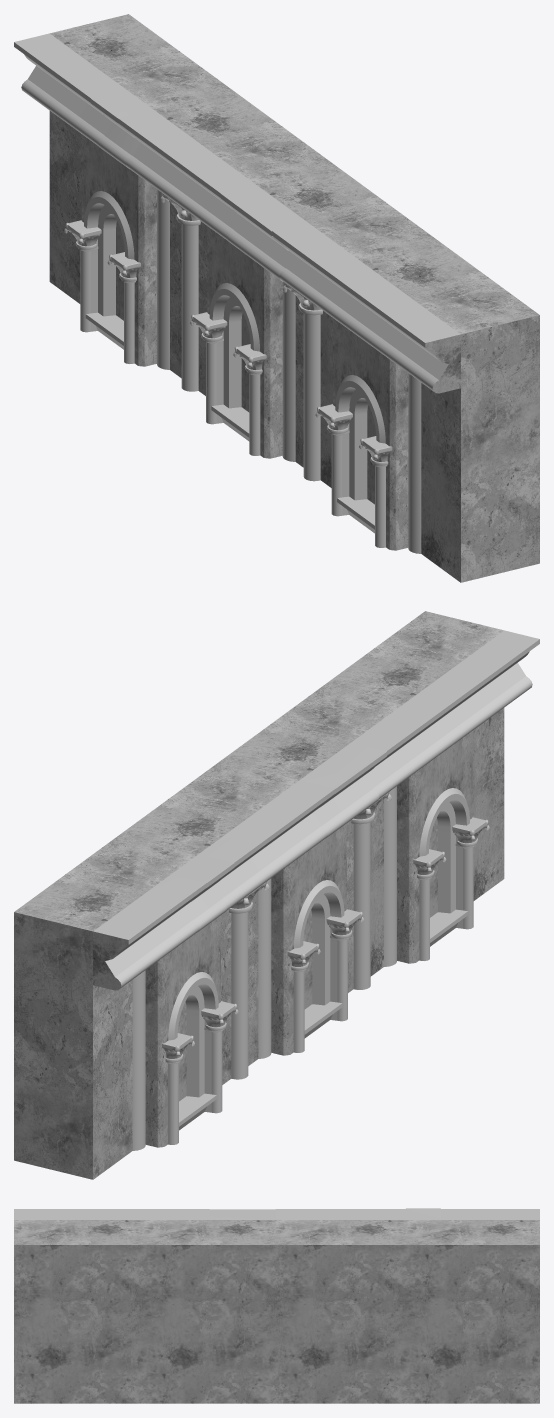
Rendered from SM_TowerWall_05a.fbx.
3 renders of one model, top to bottom at view 1: azimuth 30°, elevation 25°; view 2: azimuth 150°, elevation 25°; view 3: azimuth 270°, elevation 25°, orthographic. The views are drawn at different scales.
Visible parts, largest first — view 1: SM_TowerWall_05a_LOD0; view 2: SM_TowerWall_05a_LOD0; view 3: SM_TowerWall_05a_LOD0.
Boxes of the visible parts, x1,y1,x2,y2 form: SM_TowerWall_05a_LOD0: (14,14,539,582); SM_TowerWall_05a_LOD0: (14,611,539,1179); SM_TowerWall_05a_LOD0: (14,1208,539,1403).
Size of the model in its own units: 293 by 1800 by 602.
